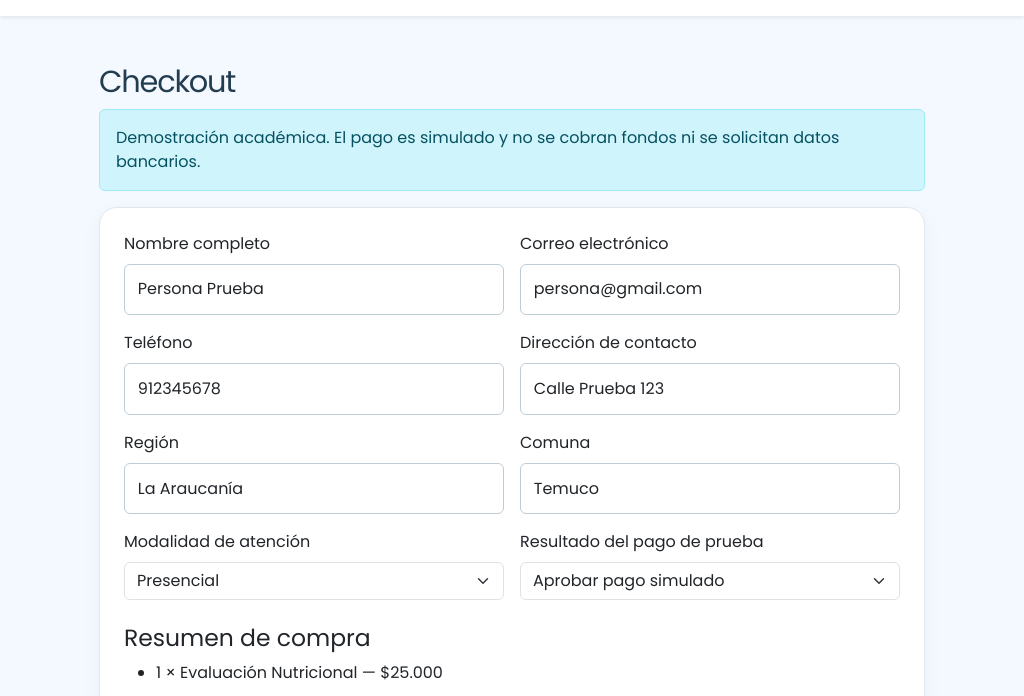
Test: Vistas clínicas y contenidos migrados › rechaza los datos de checkout incompletos y no crea una compra
Replace the text in the field labelled "Teléfono" with "12" at coordinates (314, 389), box [124,363,504,415]
(page scrolled)
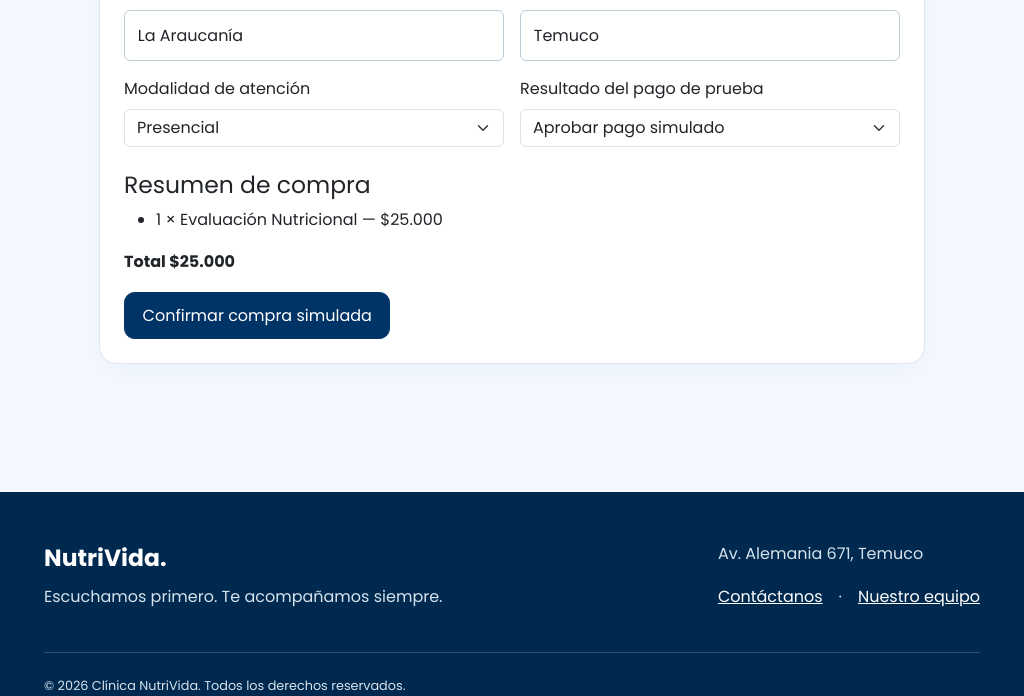
Click the button "Confirmar compra simulada" at coordinates (257, 316), box [124,292,390,339]
(page scrolled)
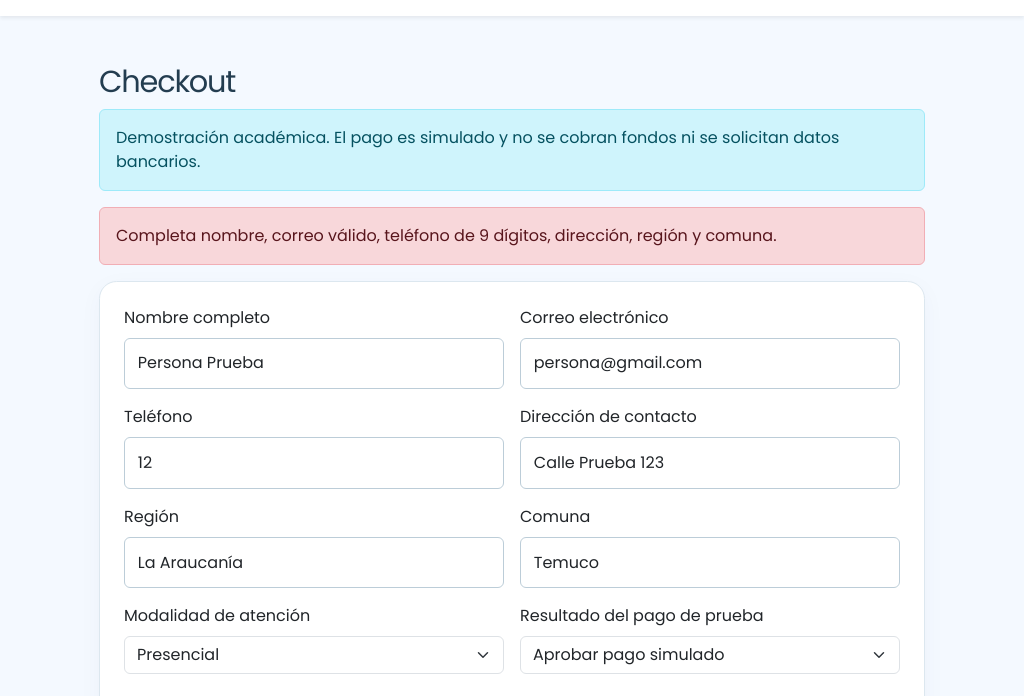
Result: the message shows "Completa nombre" at [116,224,776,247]
